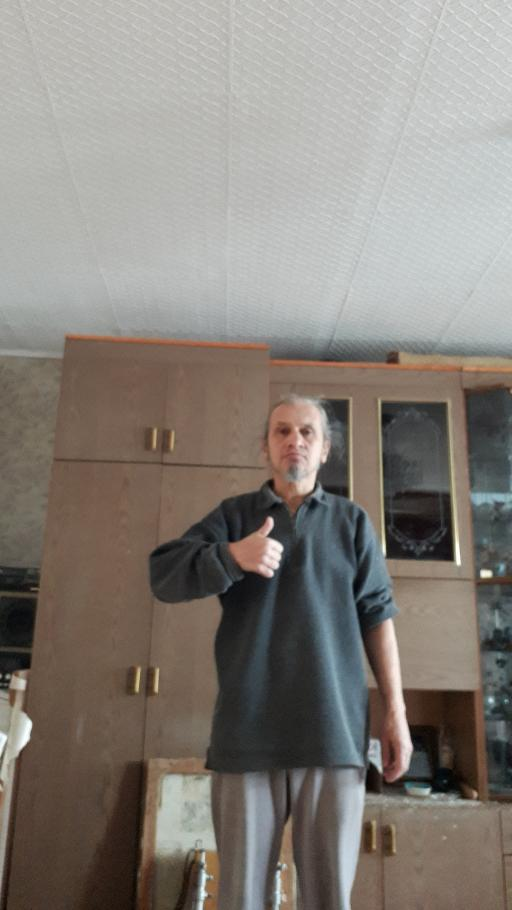like: (236, 513, 285, 580)
no_gesture: (376, 711, 414, 786)
